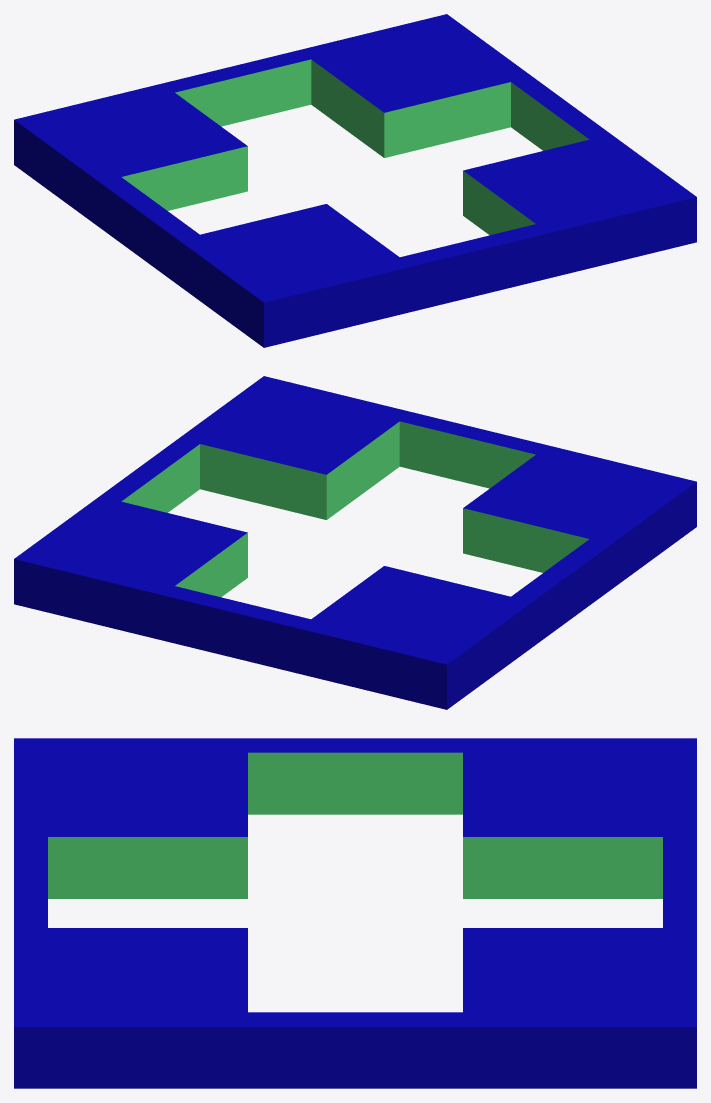
Rendered from Face_Cruz_Int.glb.
3 views of the same model, one above another, from view 1: azimuth 30°, elevation 25°; view 2: azimuth 150°, elevation 25°; view 3: azimuth 270°, elevation 25° (orthographic). The views are drawn at different scales.
Visible parts, largest first — view 1: Face_Cruz_Int; view 2: Face_Cruz_Int; view 3: Face_Cruz_Int.
Boxes of the visible parts, x1,y1,x2,y2 form: Face_Cruz_Int: [14, 14, 696, 347]; Face_Cruz_Int: [14, 376, 696, 709]; Face_Cruz_Int: [14, 738, 696, 1088].
Bounding box in the file's own units: 2 × 0.2 × 2.
